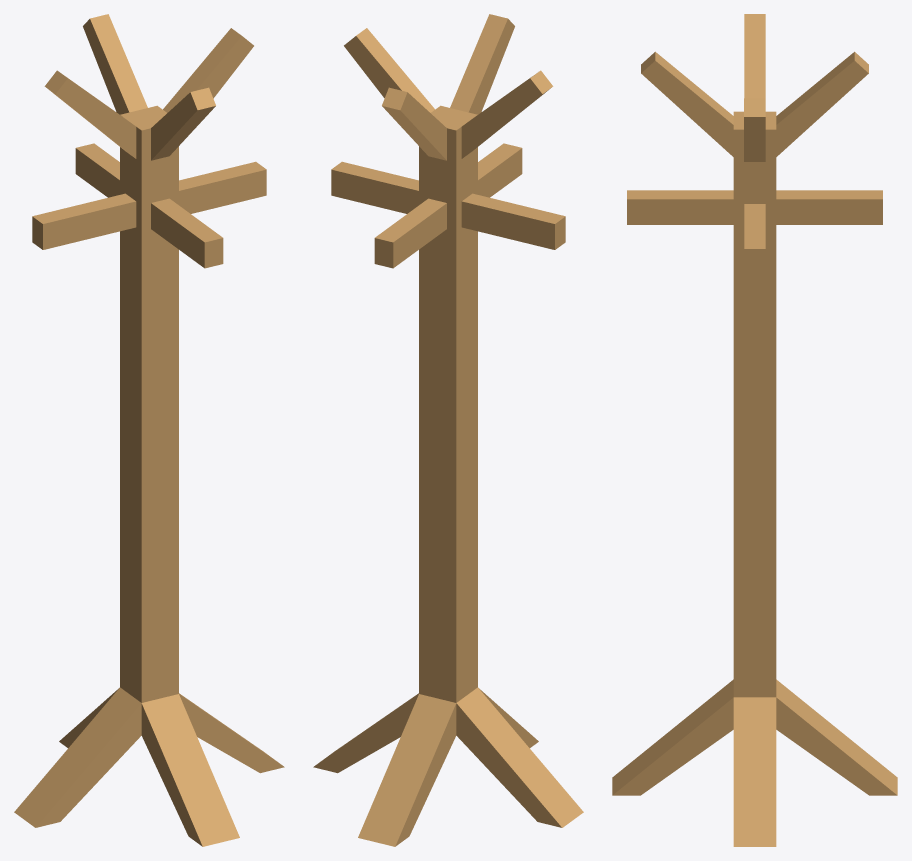
Rendered from coatRackStanding.glb.
The picture shows the model from 3 angles, left to right: view 1: azimuth 30°, elevation 25°; view 2: azimuth 150°, elevation 25°; view 3: azimuth 270°, elevation 25°; orthographic projection.
Bounding box in the file's own units: 2.73 × 7.7 × 2.73.
